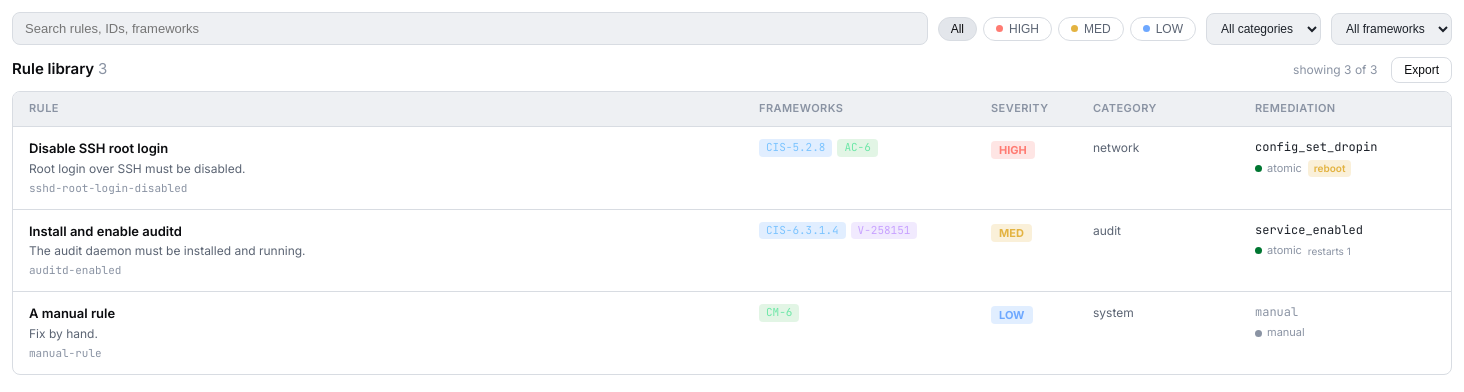
Scenario: frontend-rules-library › frontend-rules-library/AC-03 — client-side search narrows without extra fetch
Check: the text "Disable SSH root login" is shown, box [29, 140, 168, 156]
Type "auditd" into the field labelled "Search rules, IDs, frameworks" at (470,28), box [12, 12, 928, 45]
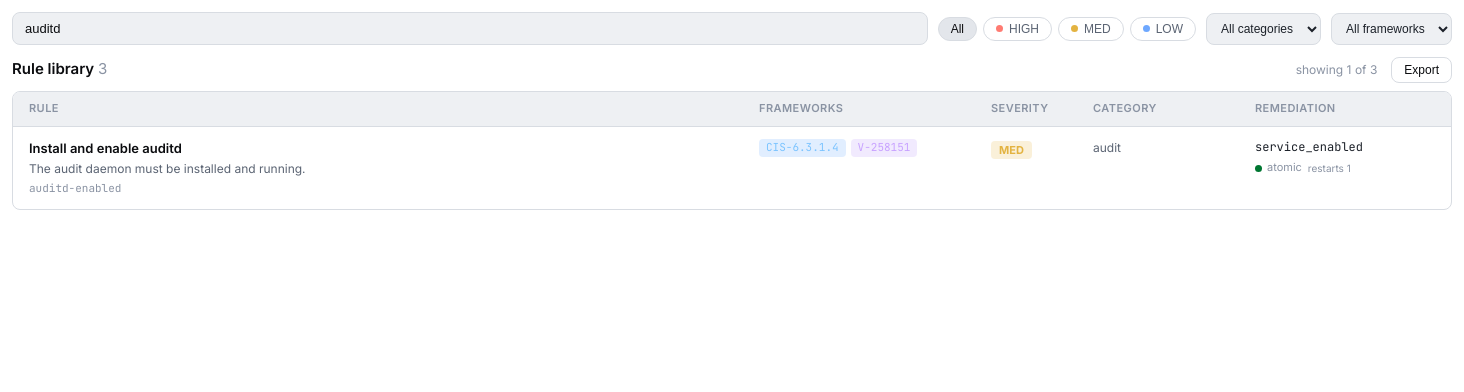
Check: the text "Install and enable auditd" is shown, box [29, 140, 182, 156]
Check: the text "showing 1 of 3" is shown, box [1296, 61, 1377, 79]
Check: the text "Disable SSH root login" is gone
